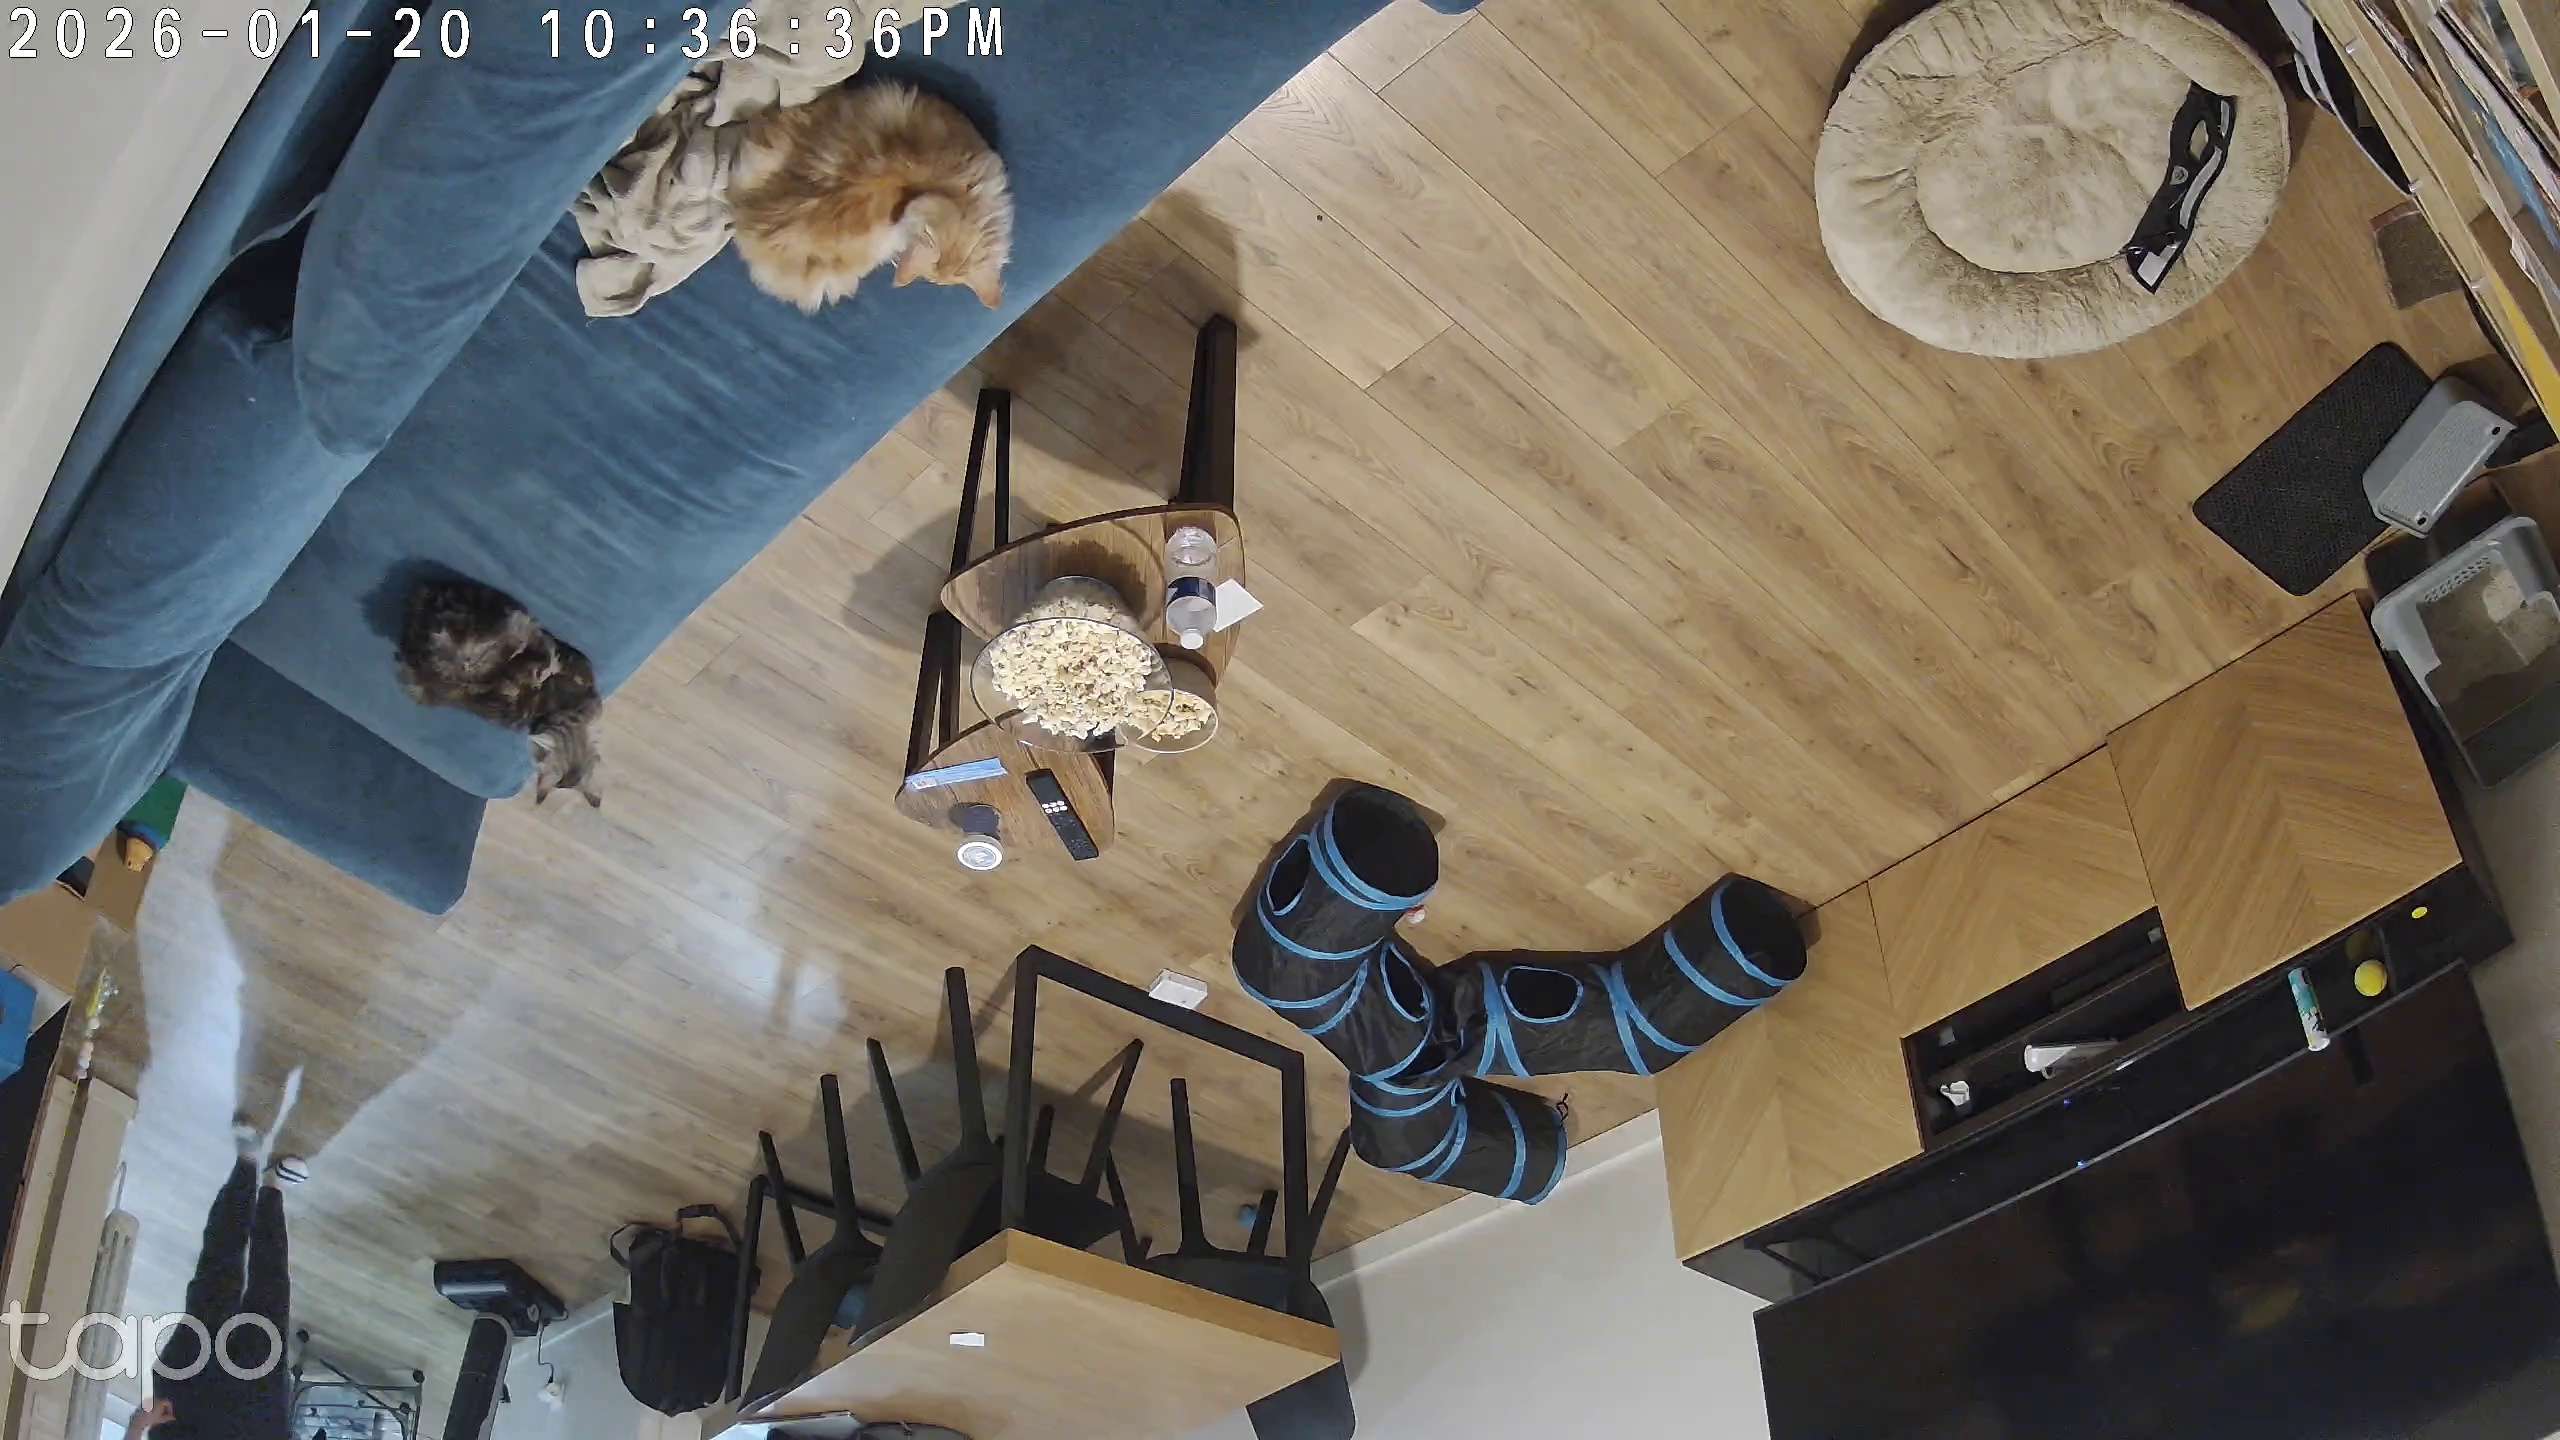Nala: (364, 557, 654, 832)
Simba: (724, 74, 1073, 336)
